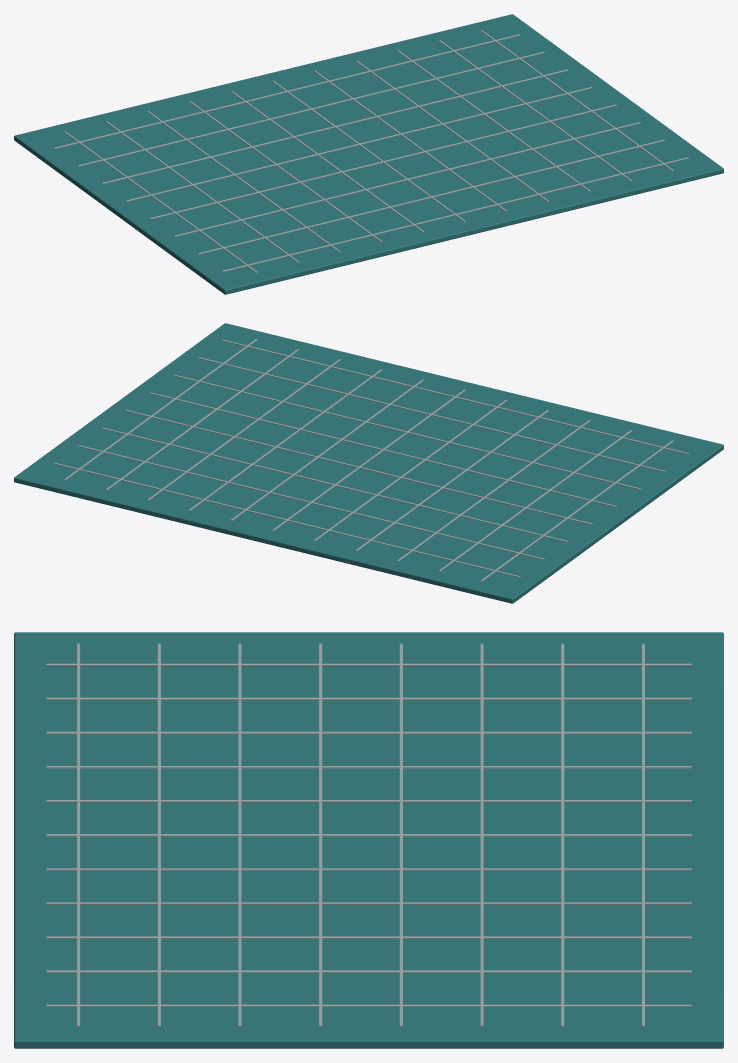
Rendered from tabletop-hobby-store-and-club-cutting-mat-0e8a5f10__31587.glb.
3 renders of one model, top to bottom at view 1: azimuth 30°, elevation 25°; view 2: azimuth 150°, elevation 25°; view 3: azimuth 270°, elevation 25°, orthographic. The views are drawn at different scales.
Parts seen in each view (by area): view 1: cutting-mat; view 2: cutting-mat; view 3: cutting-mat.
Boxes of the visible parts, bbox=[...] form: cutting-mat: bbox=[14, 14, 723, 294]; cutting-mat: bbox=[14, 323, 723, 603]; cutting-mat: bbox=[14, 632, 723, 1048].
Size of the model in its own units: 0.3 by 0.00351 by 0.22.
